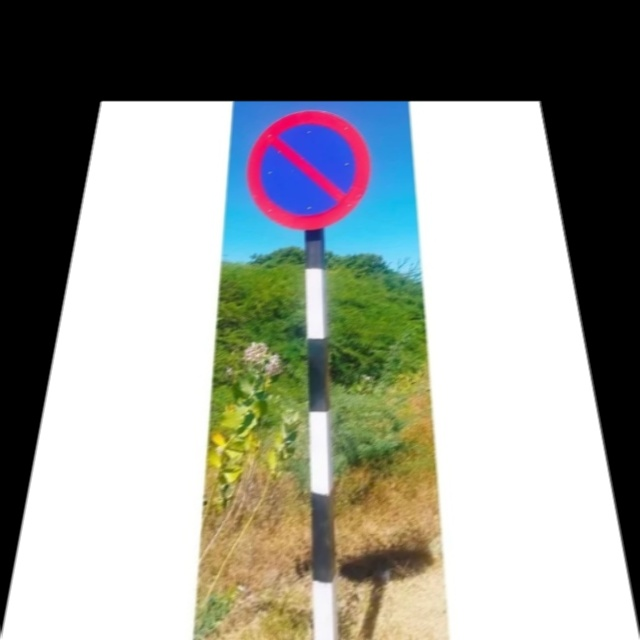No_Stopping_or_Standing: (249, 110, 367, 228)
